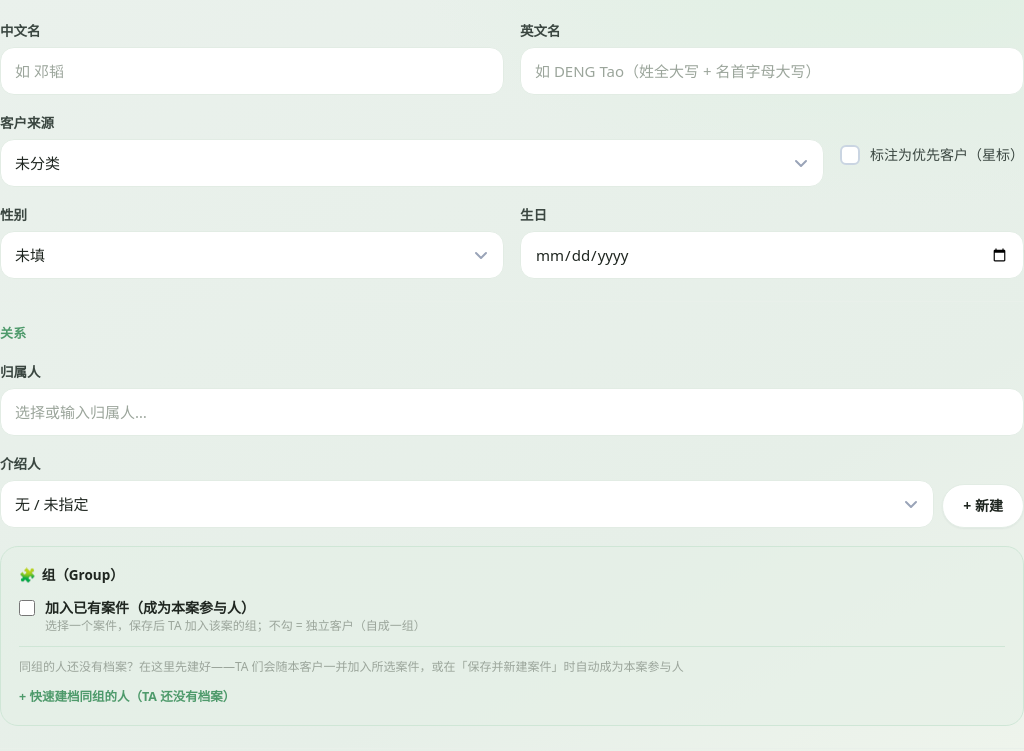
Test case: CustomerForm（改进版 UI 行为） › 中文名/英文名两栏渲染（英文名带格式占位）；两栏全空 → 无提示、保存禁用；填中文名后可保存
Expected: the field with placeholder "如 DENG Tao（姓全大写 + 名首字母大写）" is shown, [520,47,1023,95]
In the field labelled "中文名": (252, 71) [0,47,504,95], type "王明"
(page scrolled)
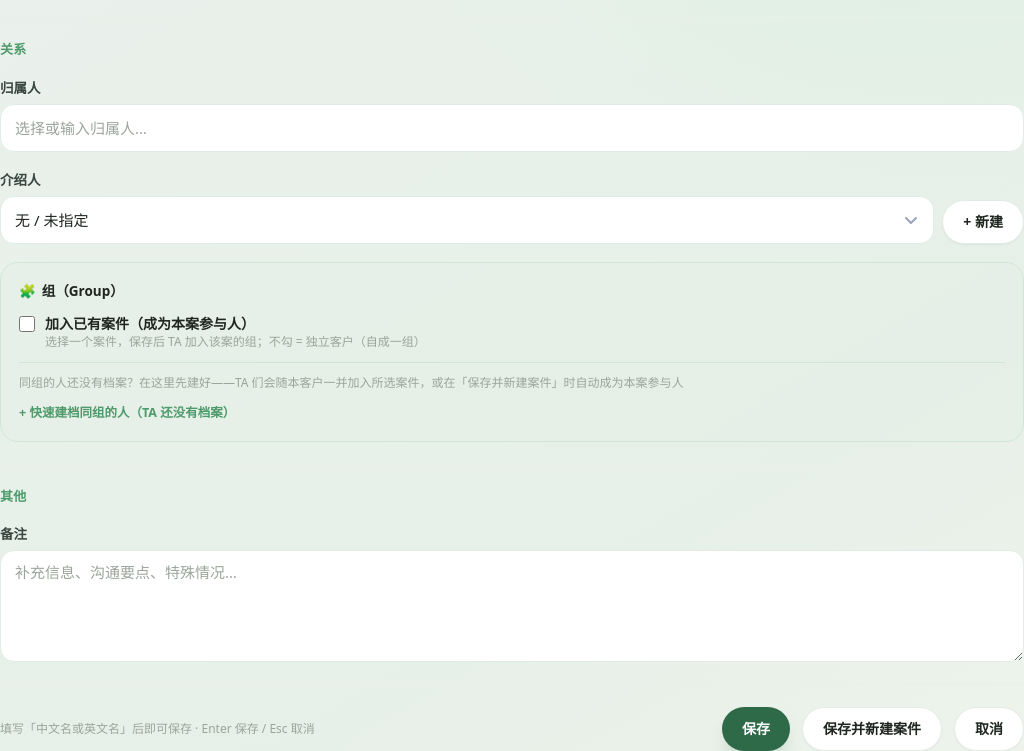
Now the button "保存" is enabled, box [722,707,790,750]
